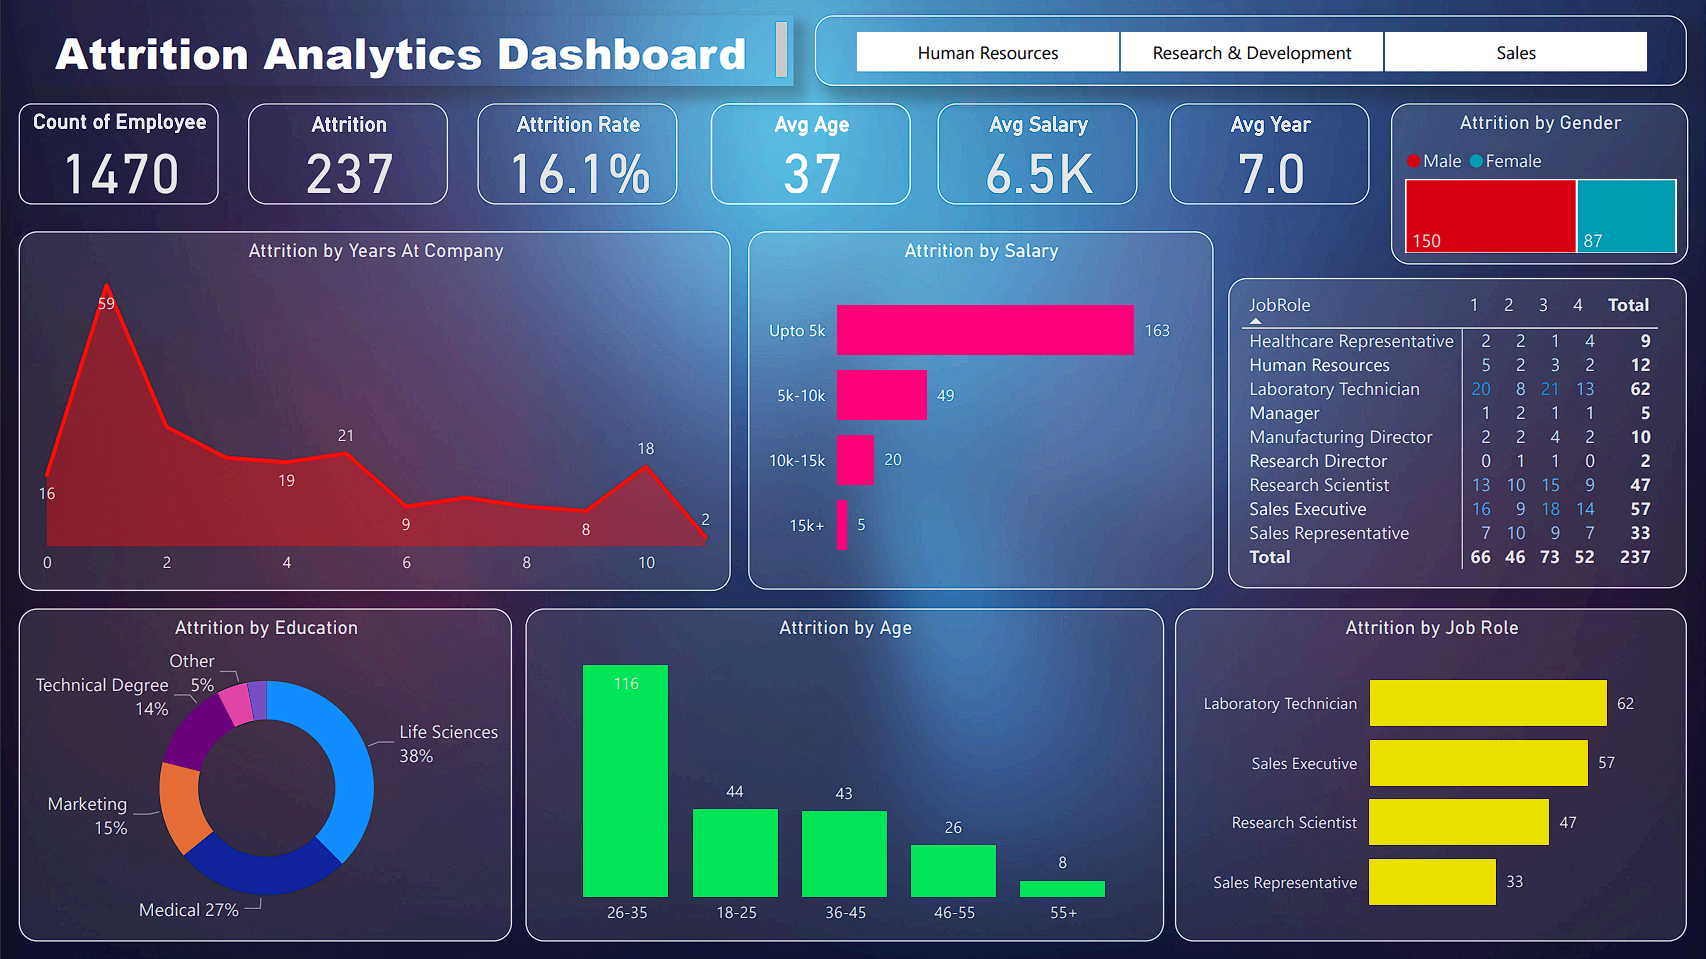

The page's visual inventory and layout, read from the dashboard file:
{"tool":"powerbi","page":{"name":"Page 1","canvas":[1280,720],"ordinal":0},"visuals":[{"type":"card","title":"Count of Employee","fields":{"Values":["CountNonNull(HR_Analytics.EmpID)"]},"box":[14.1,77,150,76],"z":0},{"type":"card","title":"Attrition","fields":{"Values":["Sum(HR_Analytics.AttritionCount)"]},"box":[185.6,77,150,76],"z":1000},{"type":"card","title":"Attrition Rate","fields":{"Values":["HR_Analytics.AttritionRate"]},"box":[358.4,77,150,76],"z":2000},{"type":"card","title":"Avg Age","fields":{"Values":["Avg(HR_Analytics.Age)"]},"box":[532.7,77,150,76],"z":3000},{"type":"card","title":"Avg Salary","fields":{"Values":["Avg(HR_Analytics.MonthlyIncome)"]},"box":[702.7,77,150,76],"z":4000},{"type":"card","title":"Avg Year","fields":{"Values":["Avg(HR_Analytics.YearsAtCompany)"]},"box":[877,77,150,76],"z":5000},{"type":"donutChart","title":"Attrition by Education","fields":{"Category":["HR_Analytics.EducationField"],"Y":["Sum(HR_Analytics.AttritionCount)"]},"box":[14.1,455.5,370,250],"z":6000},{"type":"columnChart","title":"Attrition by Age","fields":{"Category":["HR_Analytics.AgeGroup"],"Y":["Sum(HR_Analytics.AttritionCount)"]},"box":[394.1,455.5,478.6,250],"z":7000},{"type":"pivotTable","fields":{"Rows":["HR_Analytics.JobRole"],"Columns":["HR_Analytics.JobSatisfaction"],"Values":["Sum(HR_Analytics.AttritionCount)"]},"box":[921.3,208.4,344.3,232.9],"z":8000},{"type":"barChart","title":"Attrition by Salary","fields":{"Category":["HR_Analytics.SalarySlab"],"Y":["Sum(HR_Analytics.AttritionCount)"]},"box":[561.3,172.7,348.6,268.6],"z":9000},{"type":"areaChart","title":"Attrition by Years At Company","fields":{"Category":["HR_Analytics.YearsAtCompany"],"Y":["Sum(HR_Analytics.AttritionCount)"]},"box":[14.1,172.7,534.3,270],"z":10000},{"type":"barChart","title":"Attrition by Job Role","fields":{"Y":["Sum(HR_Analytics.AttritionCount)"],"Category":["HR_Analytics.JobRole"]},"box":[881.3,455.5,384.3,250],"z":11000},{"type":"treemap","title":"Attrition by Gender","fields":{"Group":["HR_Analytics.Gender"],"Values":["Sum(HR_Analytics.AttritionCount)"]},"box":[1042.7,77,222.9,121.4],"z":12000},{"type":"slicer","fields":{"Values":["HR_Analytics.Department"]},"box":[611.3,11.3,654.3,52.9],"z":13000},{"type":"textbox","box":[14.1,11.3,581.4,52.9],"z":14000}]}

Visuals, with their boxes in screenshot pixels (x1, y1, x2, y2), scaled from the page's 1280x720 canvas onto the 1706x959 screenshot:
"Count of Employee" card: 19 103 219 204
"Attrition" card: 247 103 447 204
"Attrition Rate" card: 478 103 678 204
"Avg Age" card: 710 103 910 204
"Avg Salary" card: 937 103 1136 204
"Avg Year" card: 1169 103 1369 204
"Attrition by Education" donutChart: 19 607 512 940
"Attrition by Age" columnChart: 525 607 1163 940
pivotTable - HR_Analytics.JobRole x HR_Analytics.JobSatisfaction: 1228 278 1687 588
"Attrition by Salary" barChart: 748 230 1213 588
"Attrition by Years At Company" areaChart: 19 230 731 590
"Attrition by Job Role" barChart: 1175 607 1687 940
"Attrition by Gender" treemap: 1390 103 1687 264
slicer - HR_Analytics.Department: 815 15 1687 86
textbox: 19 15 794 86
